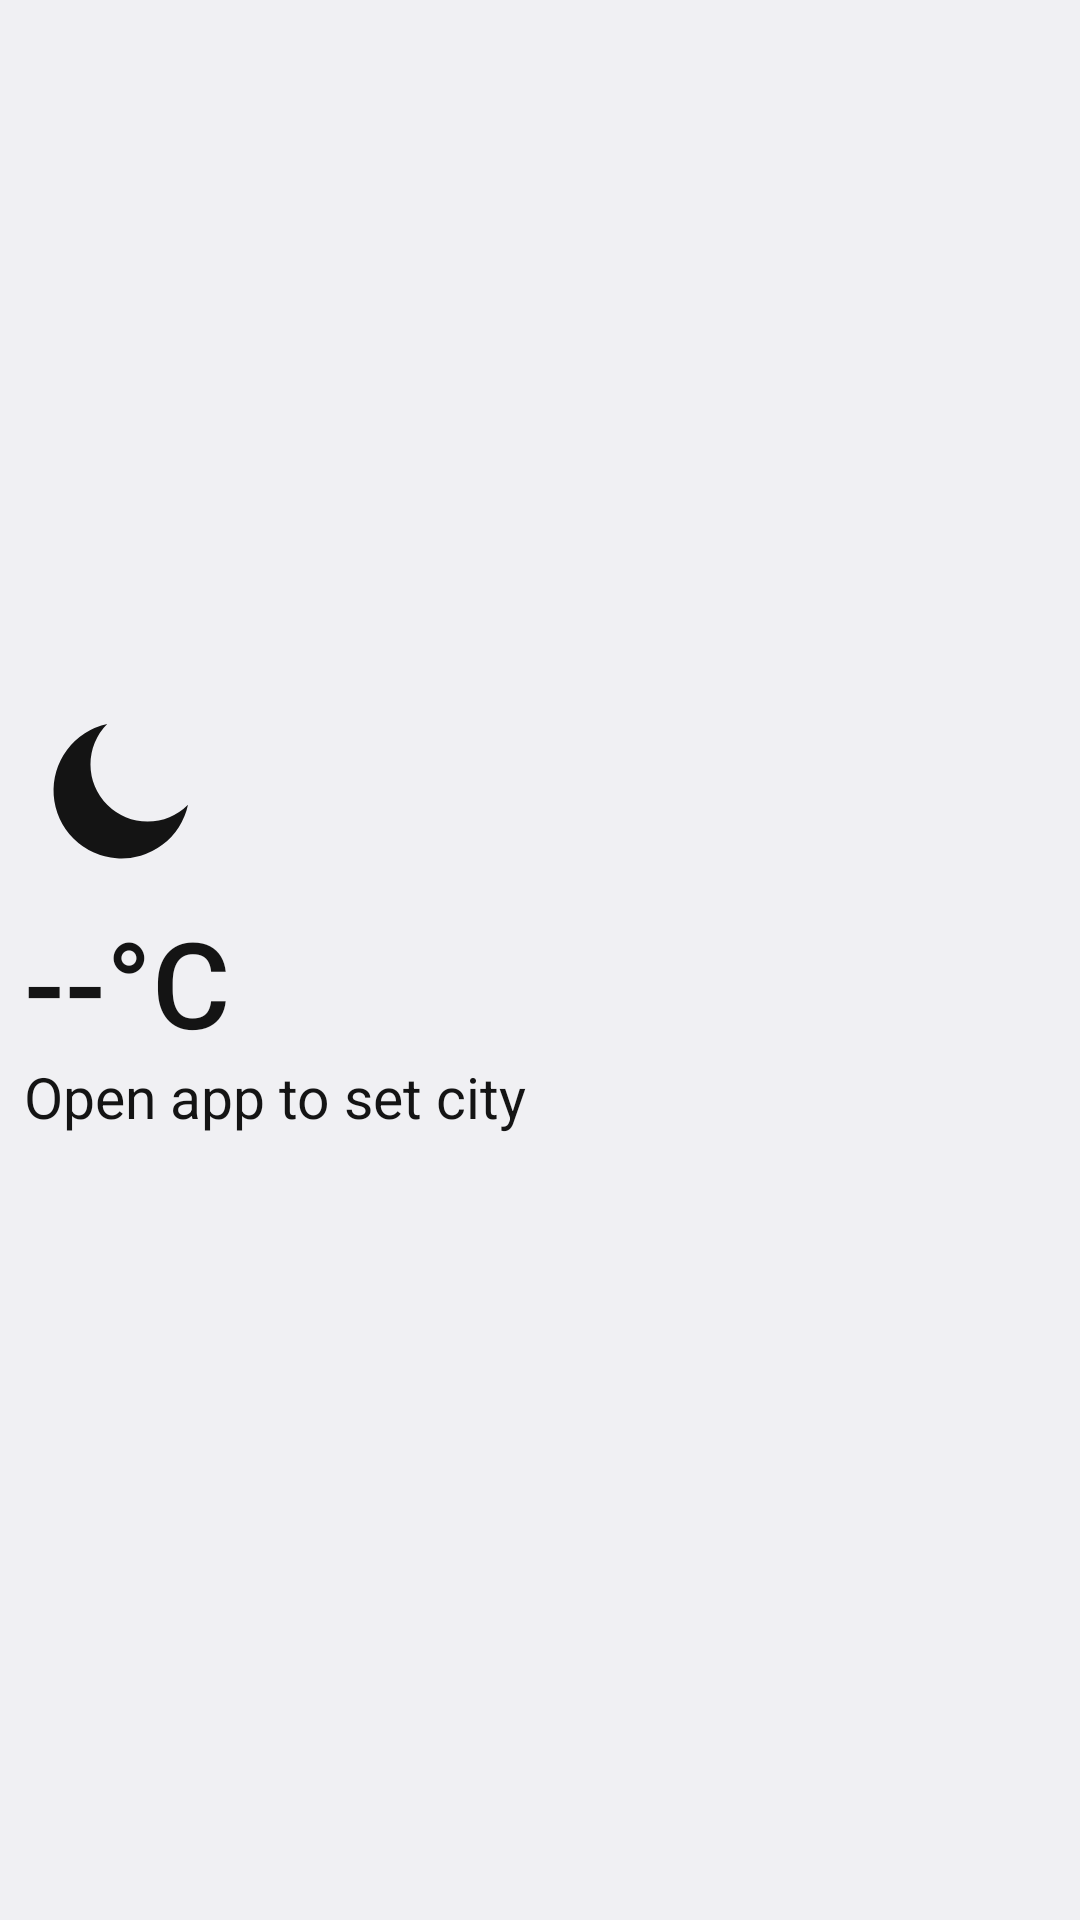

Icon bounding boxes for this 1080px×1920px phone screenshot, format (x1, y1, x2, y2):
moon: (53, 724, 188, 859)
